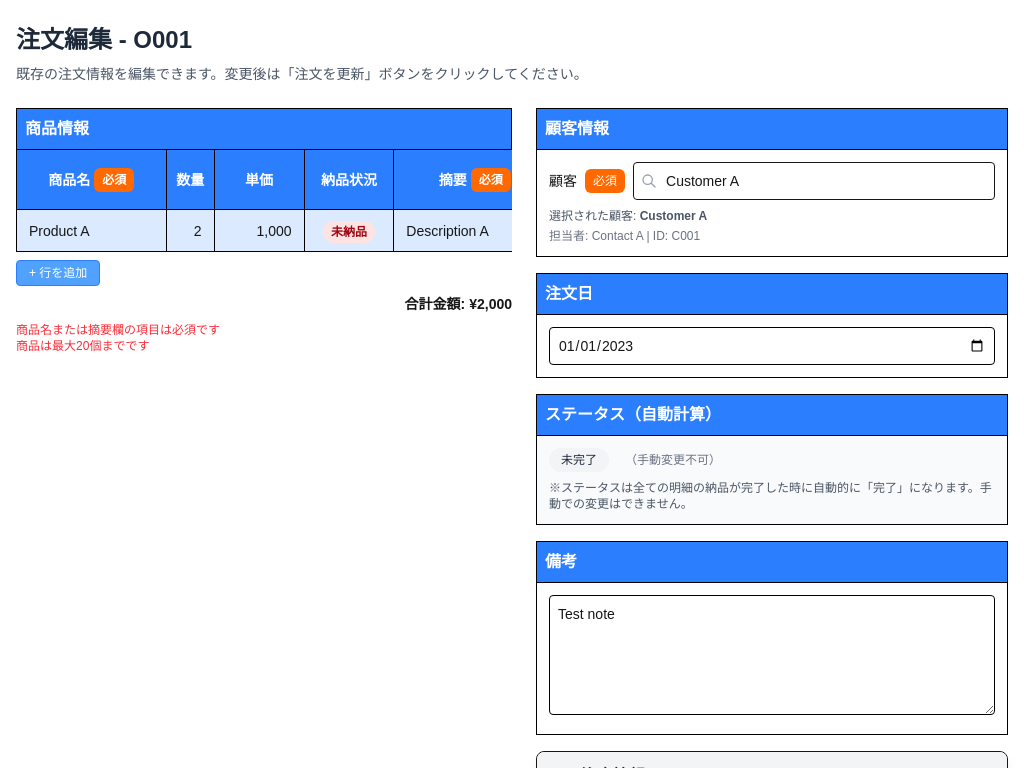
Test: OrderEditPage › 新しい商品の追加が可能
The width and height of the screenshot is (1024, 768).
Step 1. Click the button "+ 行を追加" → x=58, y=273, box [16,260,100,286]
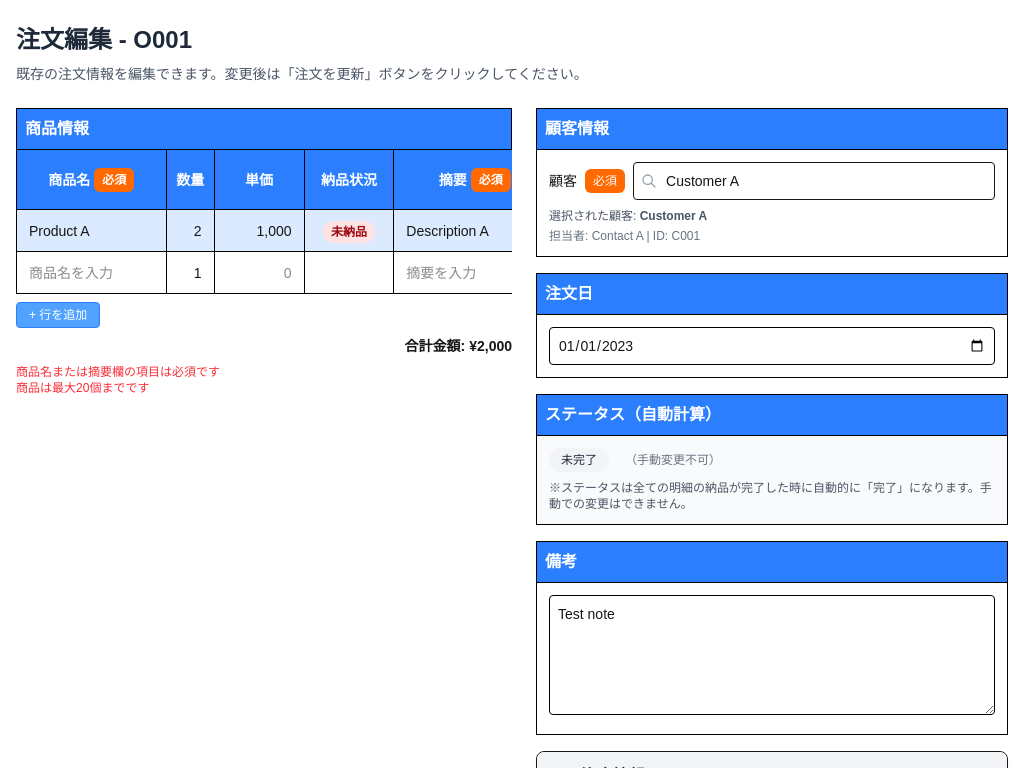
Result: the number of fields with placeholder "商品名を入力" is 2 at [25,216,158,244]; [25,258,158,286]
